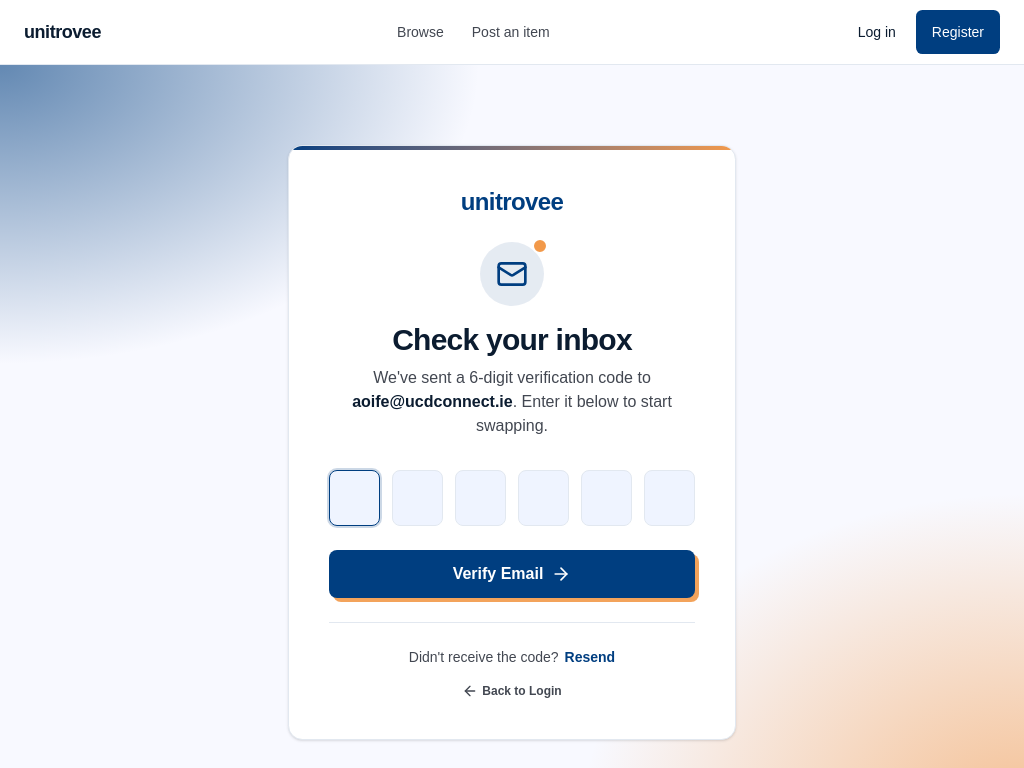
VerifyEmailPage › disables verification while the request is pending
Type "1" into the field named "Verification code digit 1". click: (354, 498)
box: [329,470,380,526]
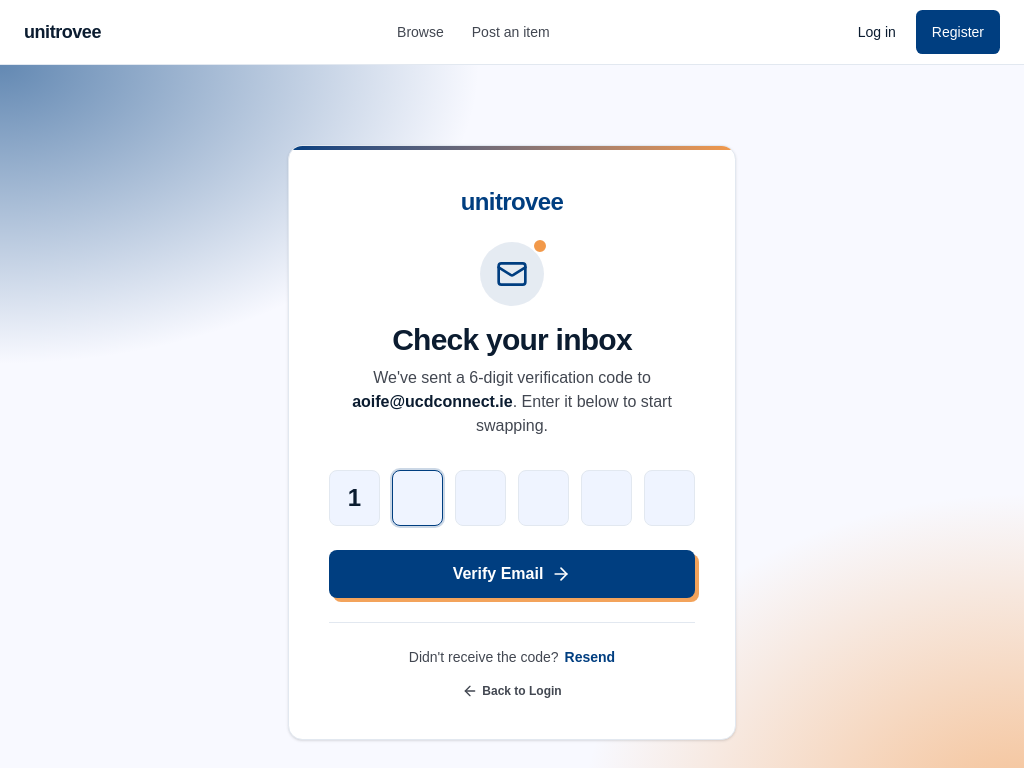
Type "2" into the field named "Verification code digit 2". click: (418, 498)
box: [392,470,443,526]
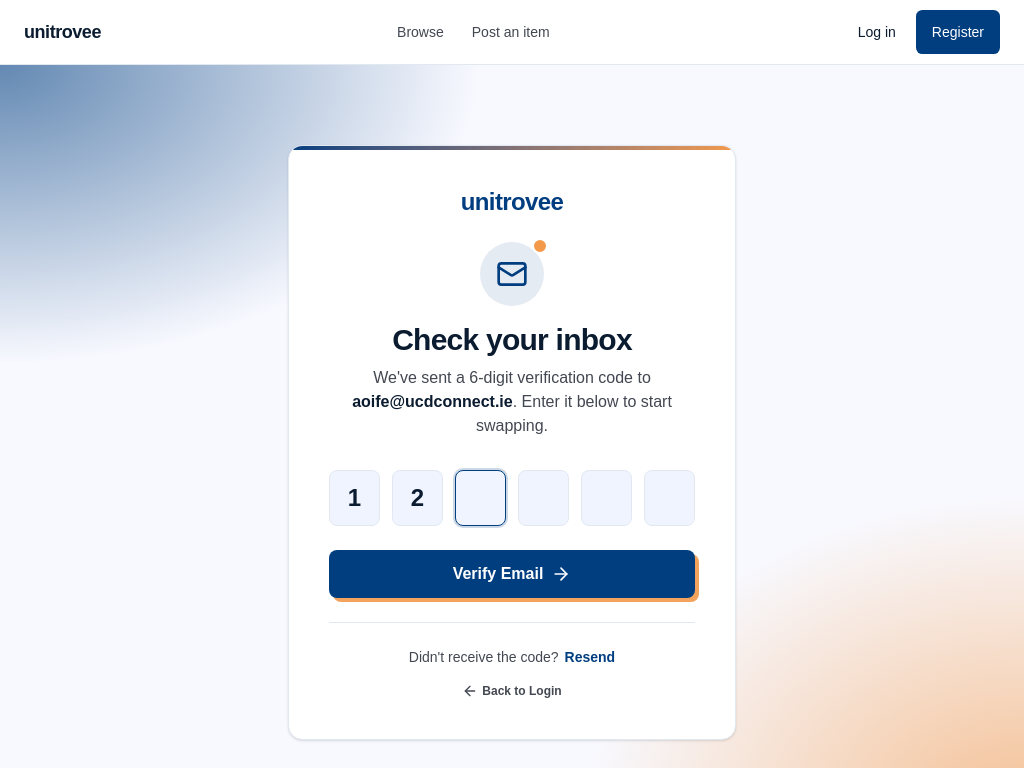
Type "3" into the field named "Verification code digit 3". click: (480, 498)
box: [455,470,506,526]
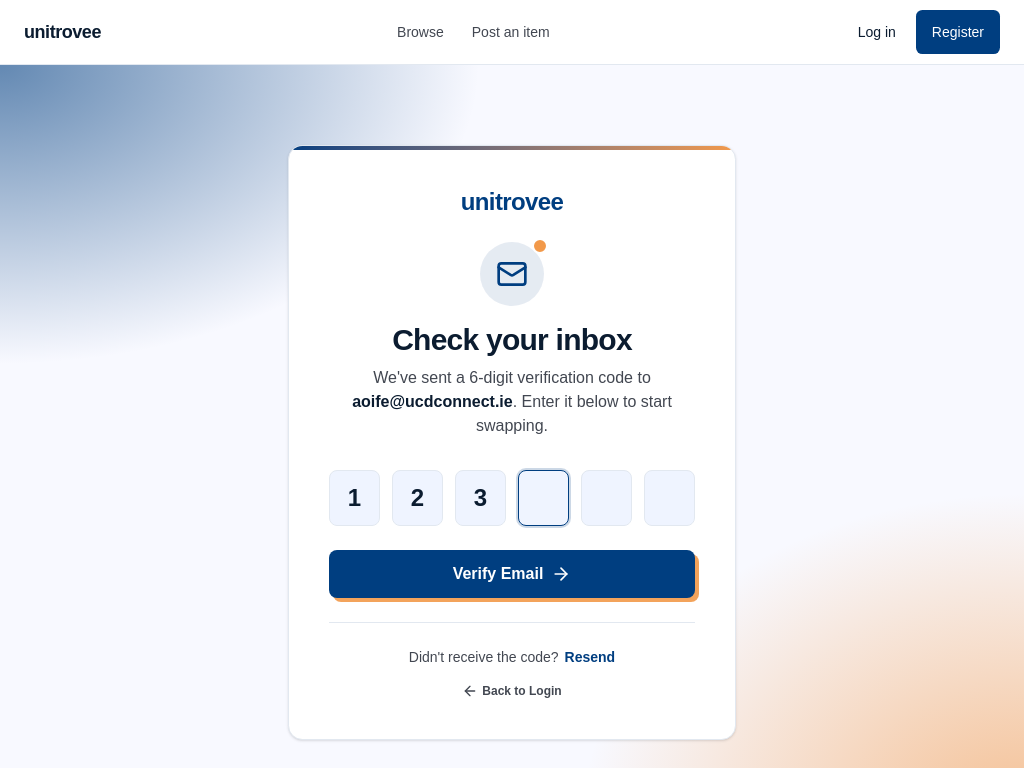
Type "4" into the field named "Verification code digit 4". click: (544, 498)
box: [518,470,569,526]
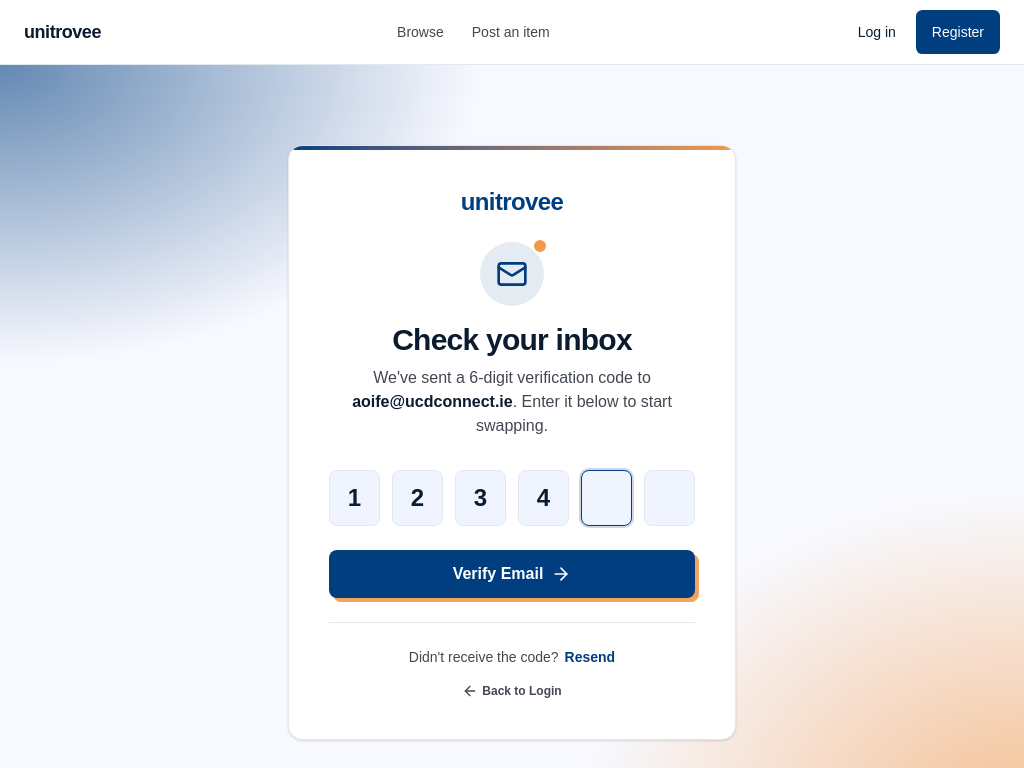
Type "5" into the field named "Verification code digit 5". click: (606, 498)
box: [581,470,632,526]
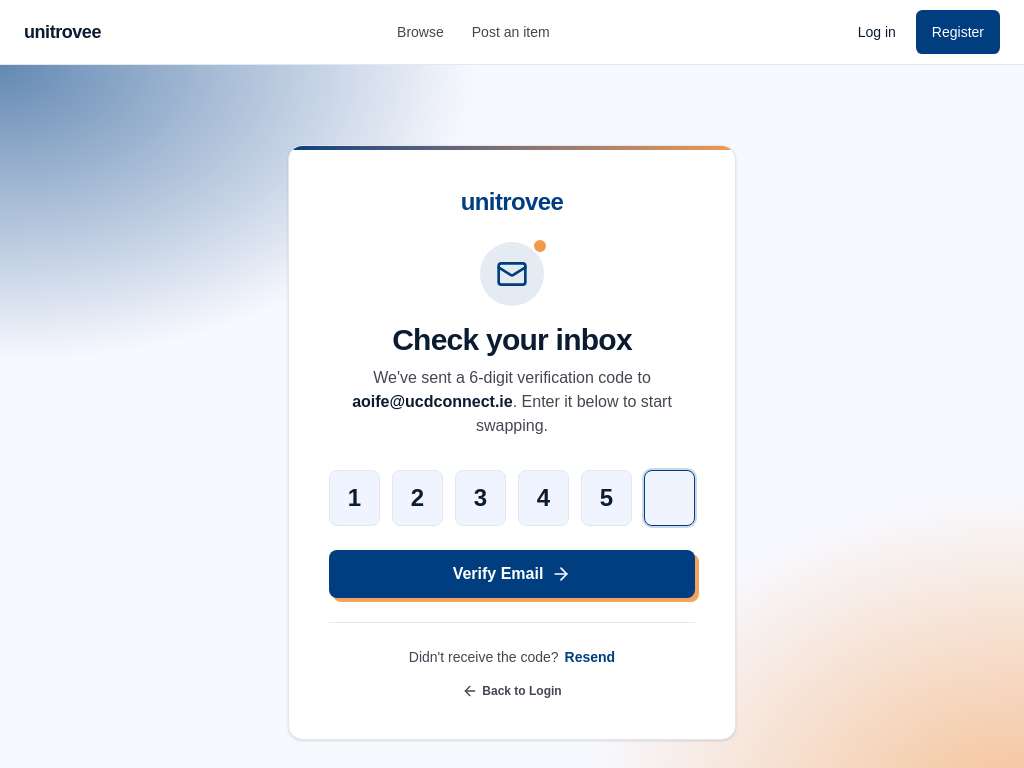
Type "6" into the field named "Verification code digit 6". click: (670, 498)
box: [644,470,695,526]
Click the button "Verify Email". click: (512, 574)
box: [329,550,695,598]
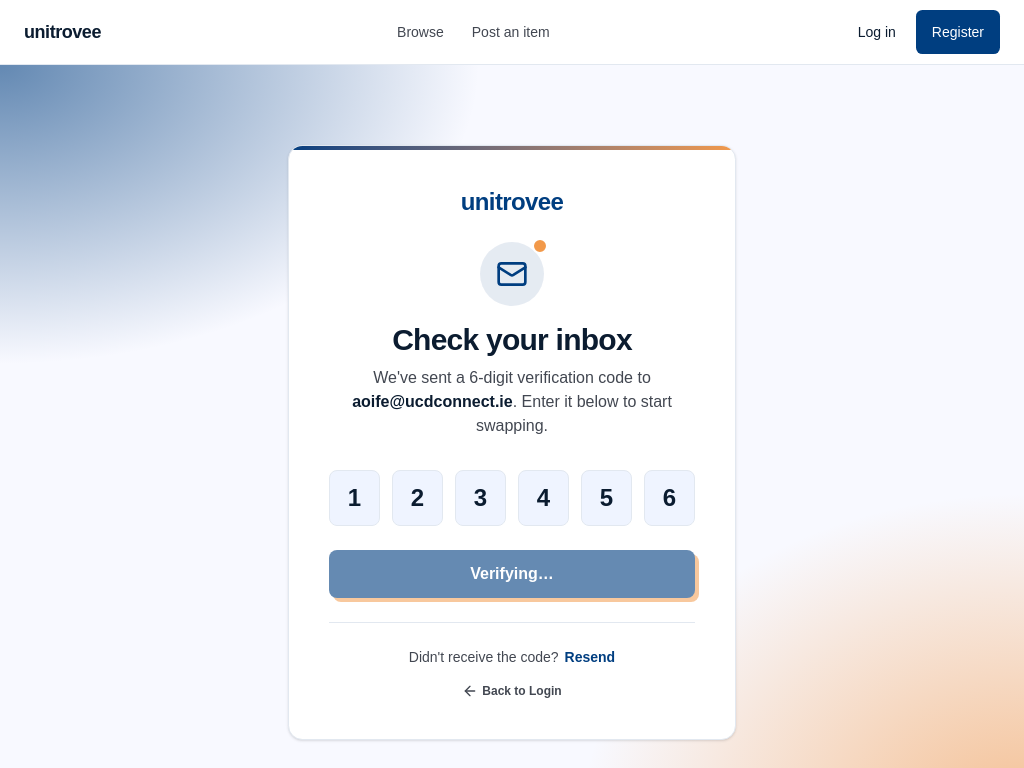
Expected: the field named "Verification code digit 1" is disabled, [329,470,380,526]
Now the button named "Verify Email" is disabled, box [329,550,695,598]
Now the button named "Verify Email" reads "Verifying…", box [329,550,695,598]
